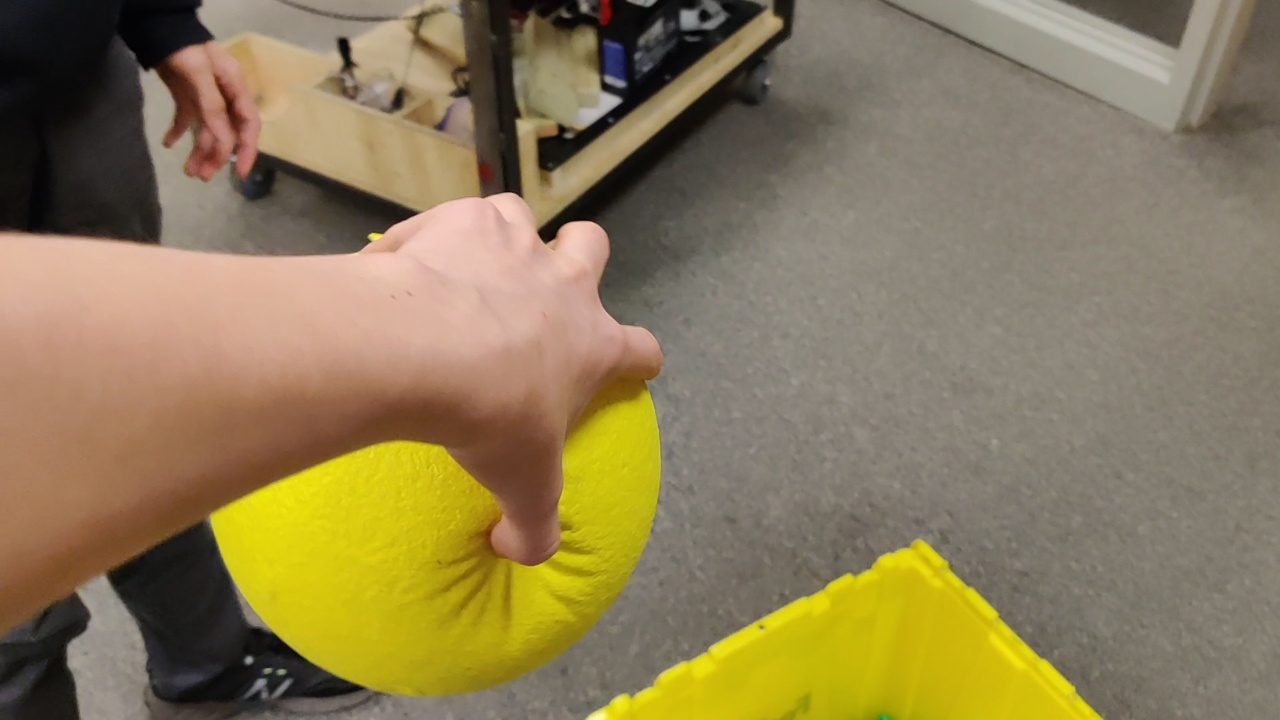Ball: (215, 383, 655, 695)
